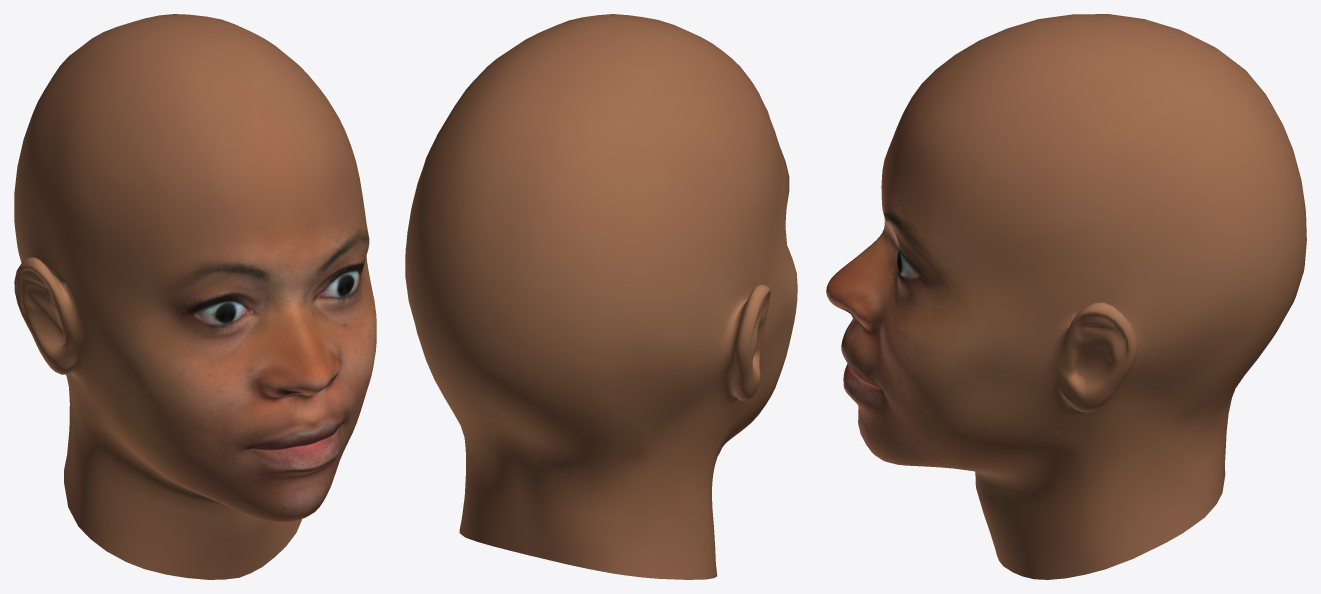
The model's file is v332_obj_ModifierBrowLowerer(AU04)Left.obj.
3 views of the same model, side by side, from view 1: azimuth 30°, elevation 25°; view 2: azimuth 150°, elevation 25°; view 3: azimuth 270°, elevation 25° (orthographic). The views are drawn at different scales.
Visible parts, largest first — view 1: HeadHires; view 2: HeadHires; view 3: HeadHires.
Part boxes in pixels (bbox=[...]): HeadHires: bbox=[14, 14, 376, 579]; HeadHires: bbox=[405, 14, 797, 579]; HeadHires: bbox=[826, 14, 1306, 579].
Bounding box in the file's own units: 187 × 282 × 233.
